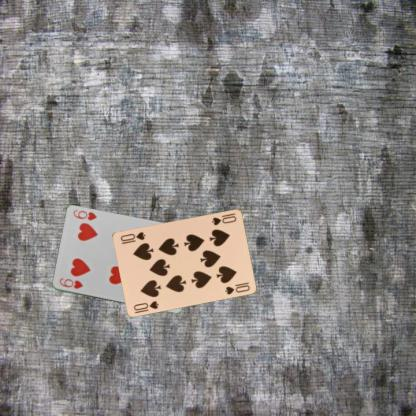10s: (209, 210, 238, 226), (131, 298, 160, 312)
6h: (57, 276, 84, 290)
